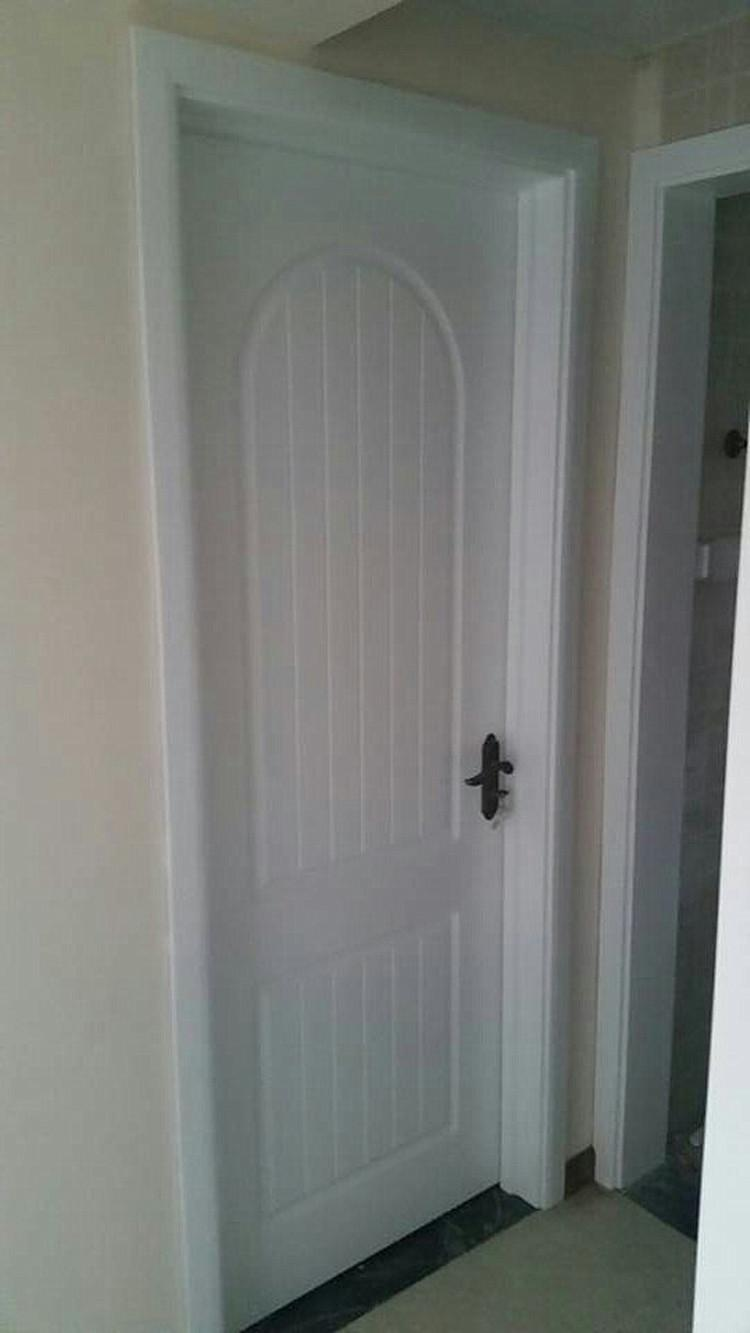door: (166, 78, 571, 1290)
